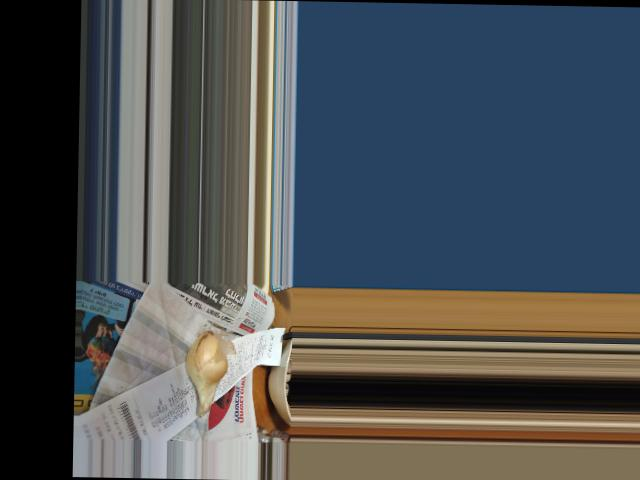onion: (185, 329, 229, 408)
